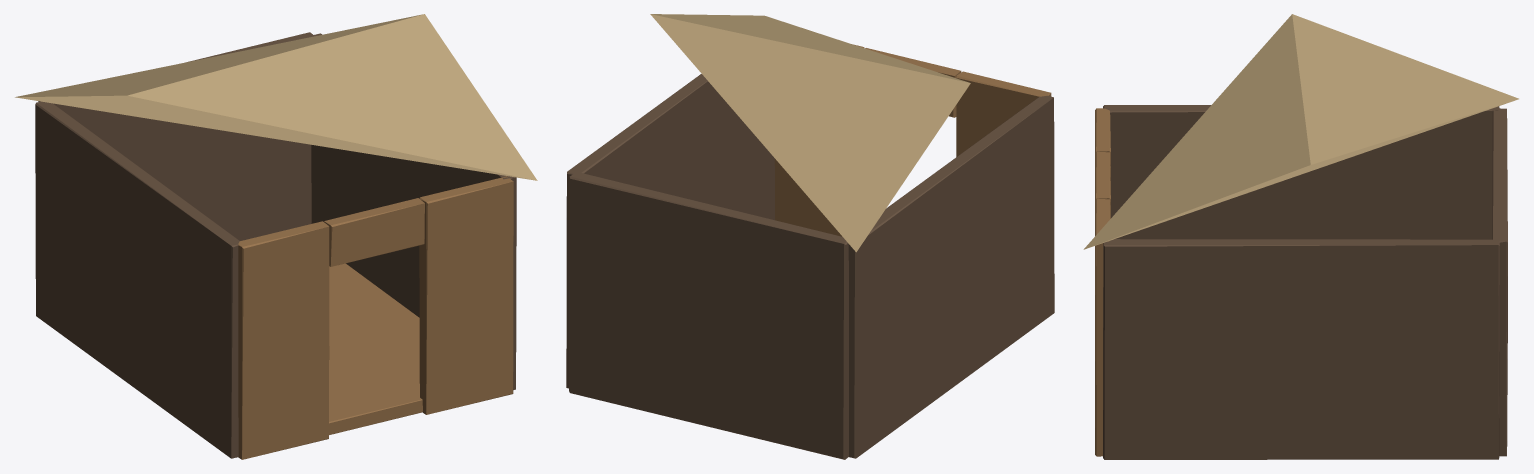
The model's file is harbor-beach-hut.lod1.glb.
The picture shows the model from 3 angles, left to right: view 1: azimuth 30°, elevation 25°; view 2: azimuth 150°, elevation 25°; view 3: azimuth 270°, elevation 25°; orthographic projection.
Parts seen in each view (by area): view 1: harbor-beach-hut__body, harbor-beach-hut__front-wall, harbor-beach-hut__roof; view 2: harbor-beach-hut__body, harbor-beach-hut__roof, harbor-beach-hut__front-wall; view 3: harbor-beach-hut__body, harbor-beach-hut__roof, harbor-beach-hut__front-wall.
Boxes of the visible parts, left/top/right/bottom form: harbor-beach-hut__body: left=35, top=32, right=516, bottom=458; harbor-beach-hut__front-wall: left=238, top=176, right=513, bottom=459; harbor-beach-hut__roof: left=15, top=14, right=537, bottom=180; harbor-beach-hut__body: left=566, top=74, right=1054, bottom=459; harbor-beach-hut__roof: left=650, top=14, right=970, bottom=252; harbor-beach-hut__front-wall: left=774, top=44, right=1051, bottom=236; harbor-beach-hut__body: left=1103, top=105, right=1507, bottom=459; harbor-beach-hut__roof: left=1083, top=14, right=1518, bottom=249; harbor-beach-hut__front-wall: left=1095, top=108, right=1110, bottom=456.
Bounding box in the file's own units: 4.5 × 4.17 × 5.5.
